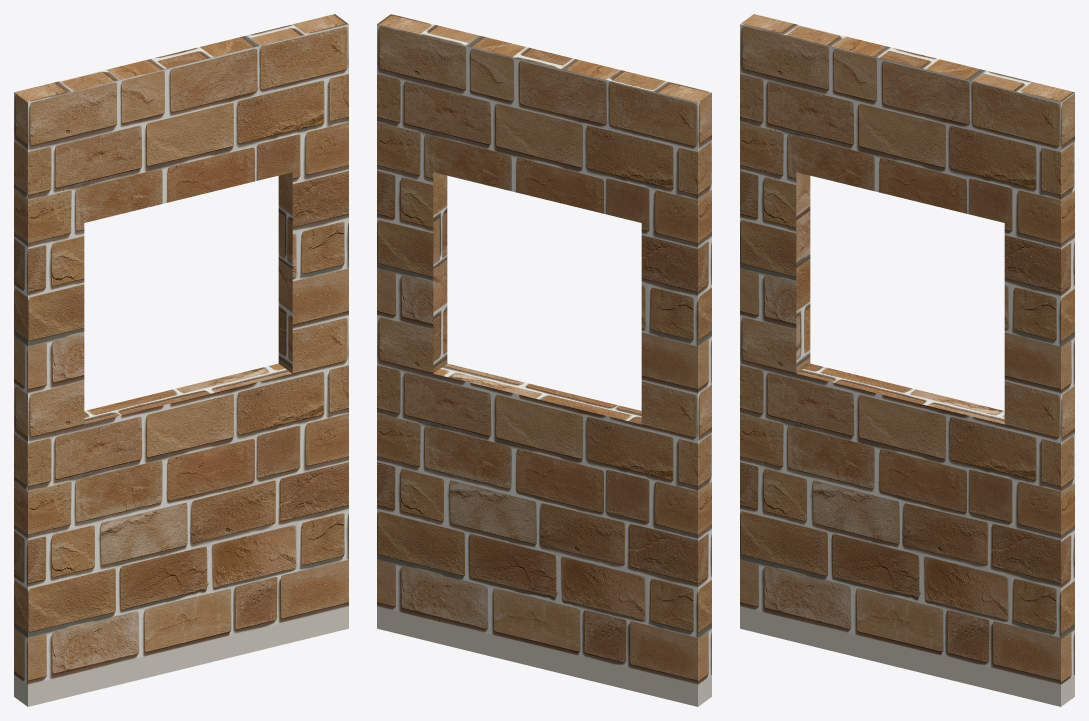
File: ARC0210033.fbx
3 views of the same model, side by side, from view 1: azimuth 30°, elevation 25°; view 2: azimuth 150°, elevation 25°; view 3: azimuth 330°, elevation 25° (orthographic).
Visible parts, largest first — view 1: smARC0210033; view 2: smARC0210033; view 3: smARC0210033.
Boxes of the visible parts, x1,y1,x2,y2 form: smARC0210033: [14, 14, 348, 706]; smARC0210033: [377, 14, 711, 706]; smARC0210033: [740, 14, 1074, 706].
Bounding box in the file's own units: 182 × 328 × 13.67.
Materials: 1 (1 with a texture image).
